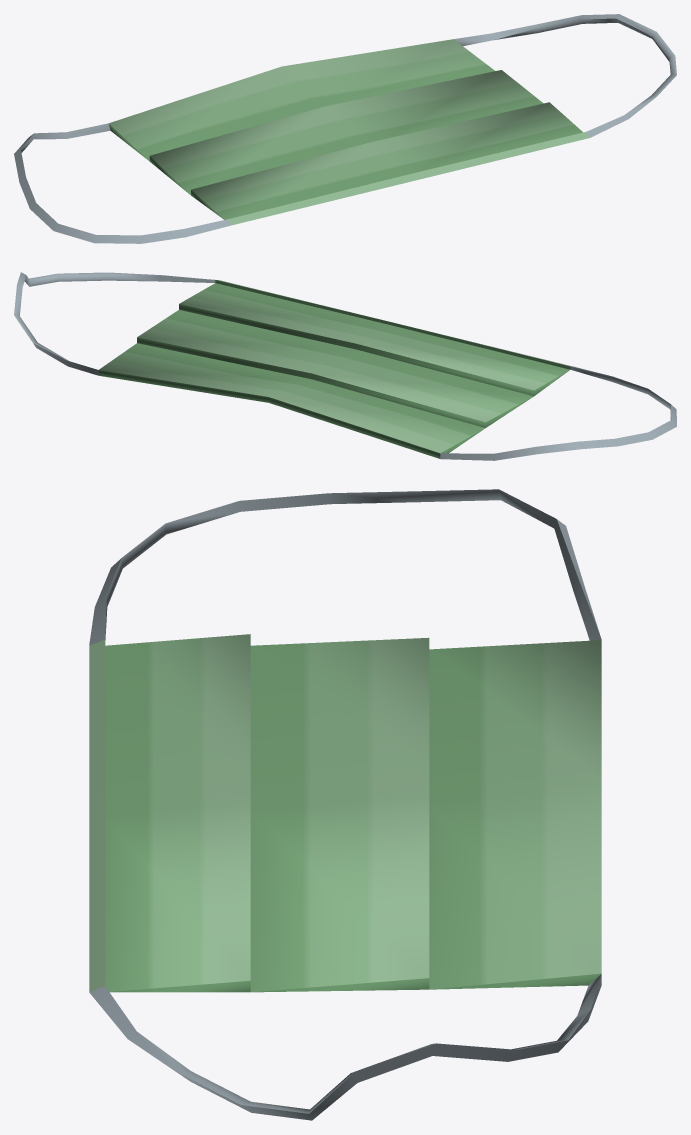
The model's file is SW_PROP_Trash_05.fbx.
The picture shows the model from 3 angles, top to bottom: view 1: azimuth 30°, elevation 25°; view 2: azimuth 150°, elevation 25°; view 3: azimuth 270°, elevation 25°; orthographic projection. The views are drawn at different scales.
Visible parts, largest first — view 1: SW_PROP_Trash_05; view 2: SW_PROP_Trash_05; view 3: SW_PROP_Trash_05.
Part boxes in pixels (x1=…): SW_PROP_Trash_05: x1=14, y1=14, x2=676, y2=243; SW_PROP_Trash_05: x1=14, y1=272, x2=676, y2=460; SW_PROP_Trash_05: x1=89, y1=489, x2=601, y2=1120.
Size of the model in its own units: 0.2856 by 0.0145 by 0.1.
